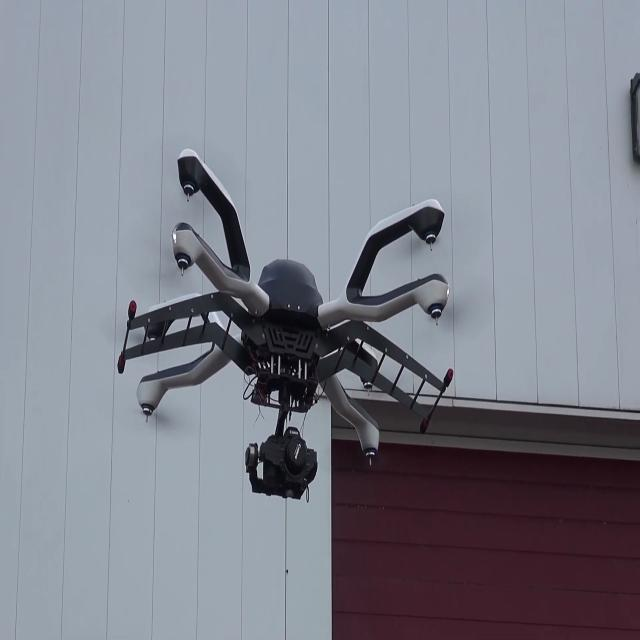drone: (111, 126, 463, 501)
